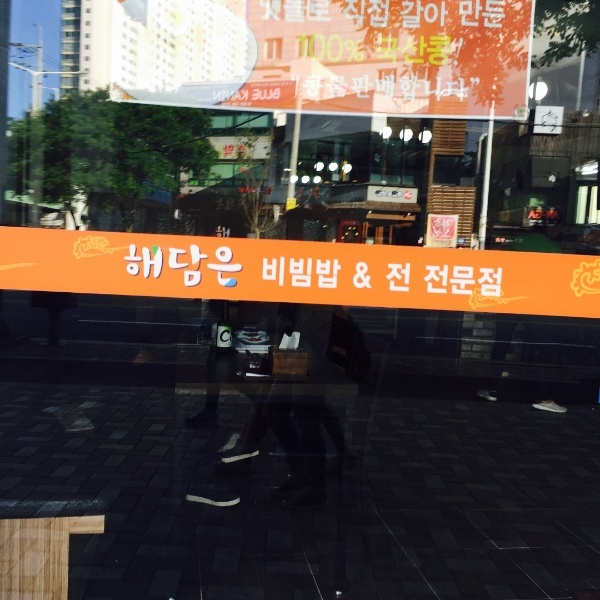text: (129, 243, 144, 290), (145, 243, 160, 290), (161, 243, 176, 290), (177, 243, 192, 290), (193, 243, 208, 290), (209, 243, 224, 290), (225, 243, 240, 290), (401, 263, 416, 301), (417, 263, 432, 301), (433, 263, 448, 301), (449, 263, 464, 301), (465, 263, 480, 301), (481, 263, 496, 301), (386, 263, 400, 301), (273, 257, 288, 291), (289, 257, 304, 291), (305, 257, 320, 291), (321, 257, 336, 291), (305, 33, 320, 67), (321, 33, 336, 67), (337, 33, 352, 67), (385, 36, 400, 70), (401, 36, 416, 70), (417, 36, 432, 70), (433, 36, 448, 70), (449, 36, 464, 70), (353, 74, 368, 105), (369, 74, 384, 105), (385, 74, 400, 105), (401, 74, 416, 105), (417, 74, 432, 105), (433, 74, 448, 105), (449, 74, 464, 105), (465, 74, 480, 105), (401, 1, 416, 32), (417, 1, 432, 32), (433, 1, 448, 32), (465, 1, 480, 32), (481, 1, 496, 32), (353, 262, 368, 291), (305, 74, 320, 103), (321, 74, 336, 103), (353, 2, 368, 30), (369, 2, 384, 30), (353, 33, 365, 67), (261, 257, 272, 291), (273, 2, 288, 26), (289, 2, 304, 26), (305, 2, 320, 26), (374, 36, 384, 70), (337, 74, 348, 103), (259, 2, 272, 26), (497, 1, 507, 32), (321, 2, 333, 26), (497, 263, 504, 301), (225, 86, 240, 103), (241, 86, 256, 103), (257, 86, 272, 103), (343, 2, 352, 30), (123, 243, 128, 290), (433, 227, 448, 241), (337, 257, 343, 291), (212, 86, 224, 103), (458, 1, 464, 32), (433, 217, 448, 229), (299, 33, 304, 67), (385, 2, 391, 30), (273, 86, 281, 103), (369, 262, 373, 291), (241, 243, 243, 290), (449, 217, 455, 229), (449, 1, 451, 32), (302, 74, 304, 103), (449, 227, 452, 241), (351, 74, 352, 105), (481, 74, 482, 105), (399, 1, 400, 32)
